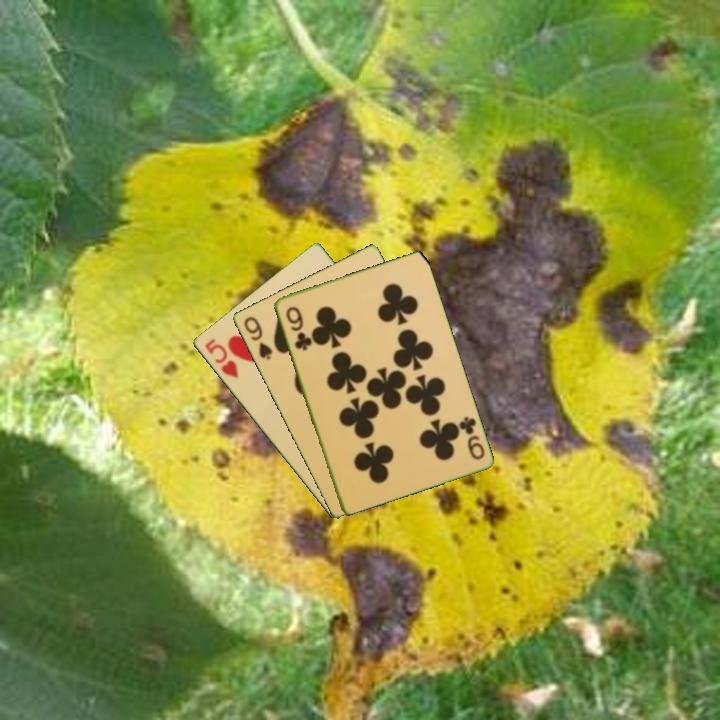5h: (201, 335, 241, 381)
9c: (455, 413, 487, 463), (282, 303, 313, 353)
9s: (240, 313, 275, 363)
